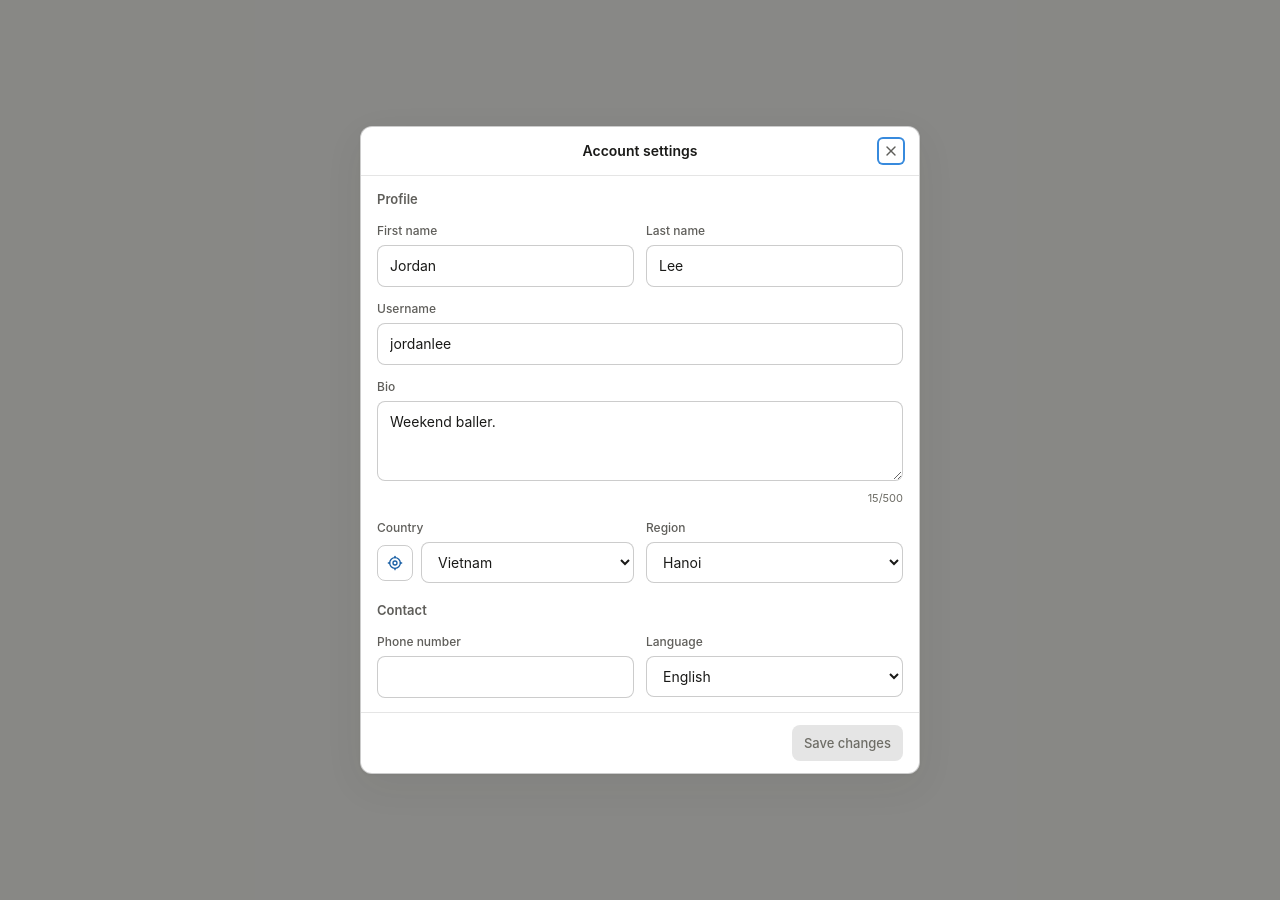
it: AccountSettingsModal · unsaved-changes guard (ACCOUNT-5) › counts a hand-picked language as an unsaved edit
Select "Tiếng Việt" in the dropdown labelled "Language": (774, 677) [646,656,903,697]
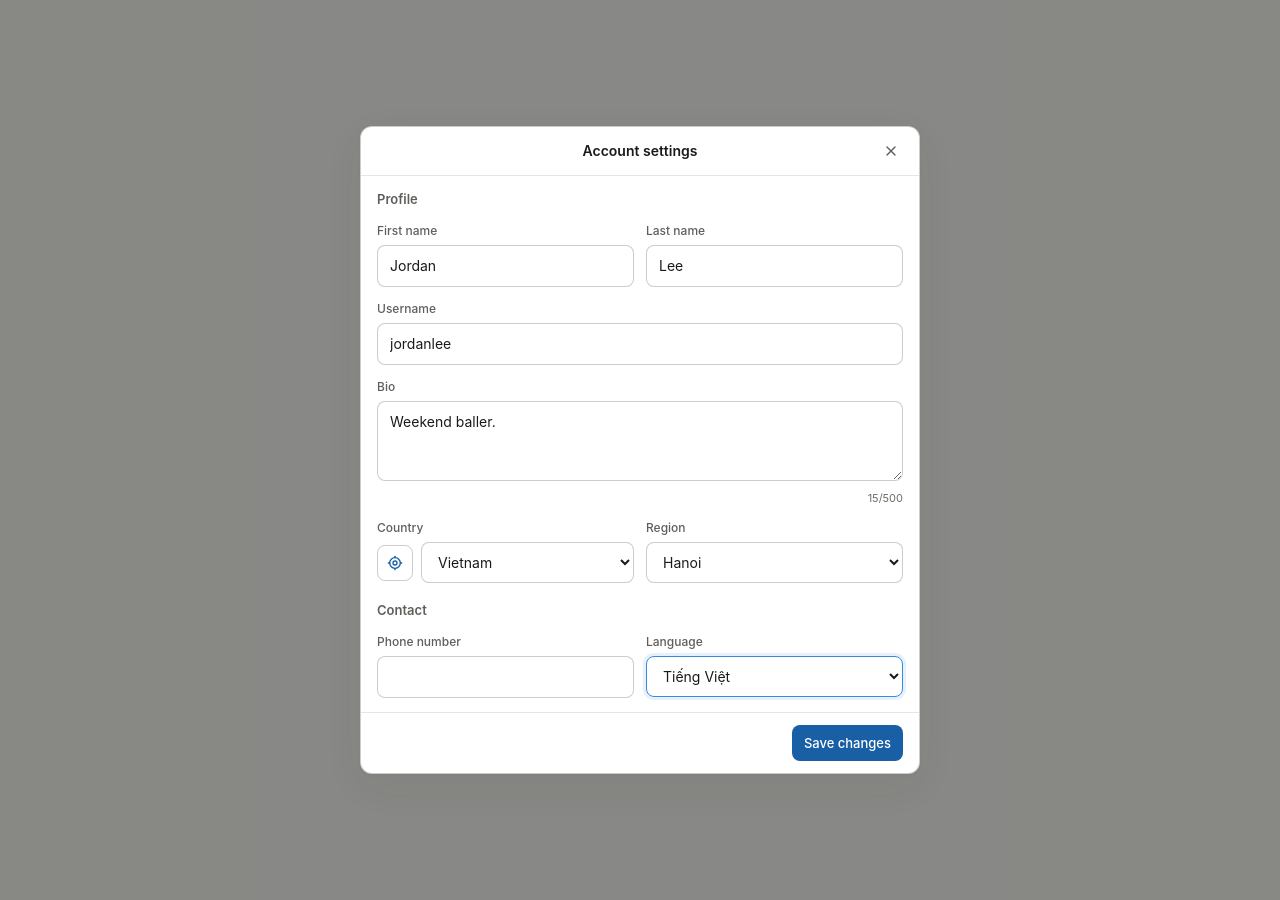
Press Escape
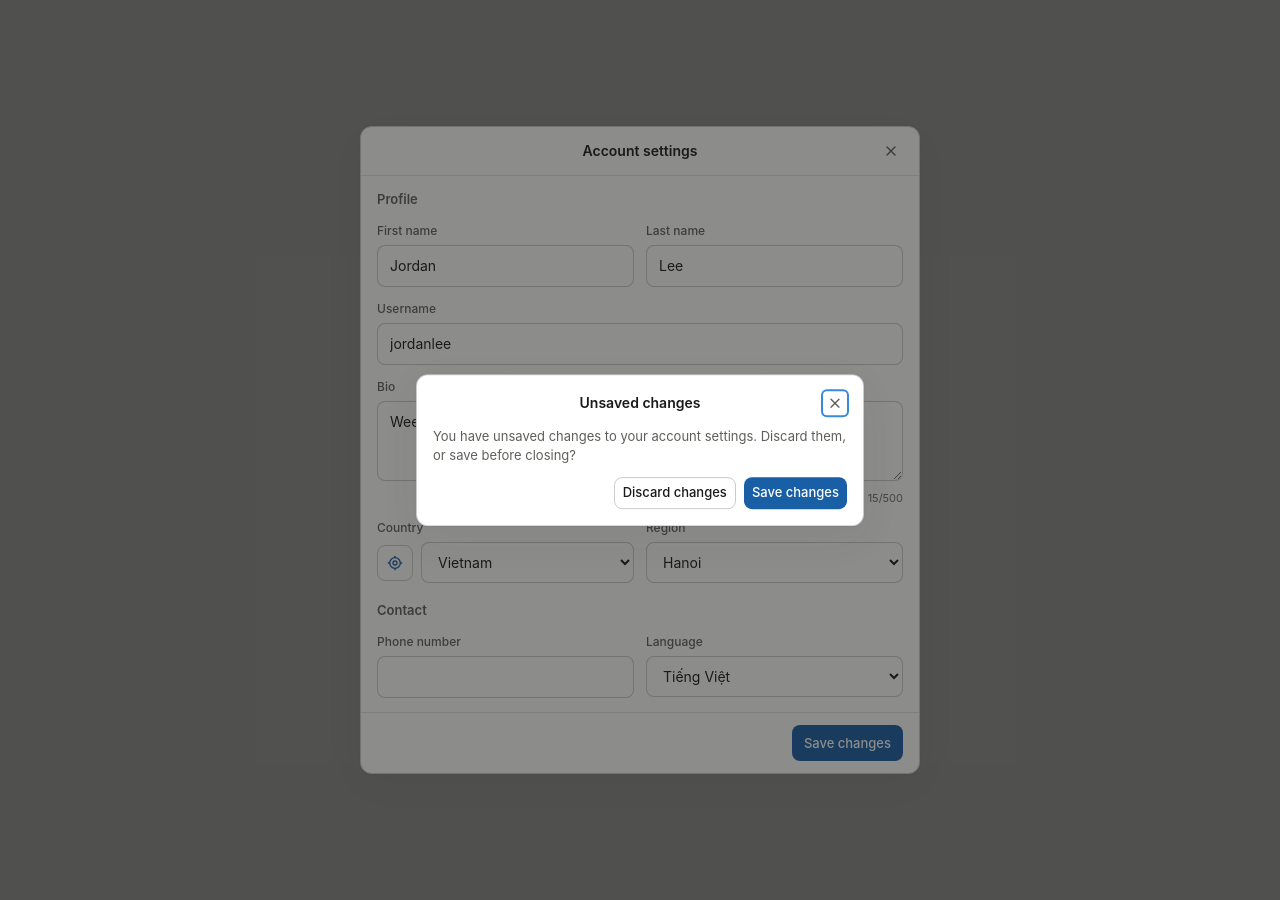
Result: the dialog "Unsaved changes" is shown at [416,374,864,526]
